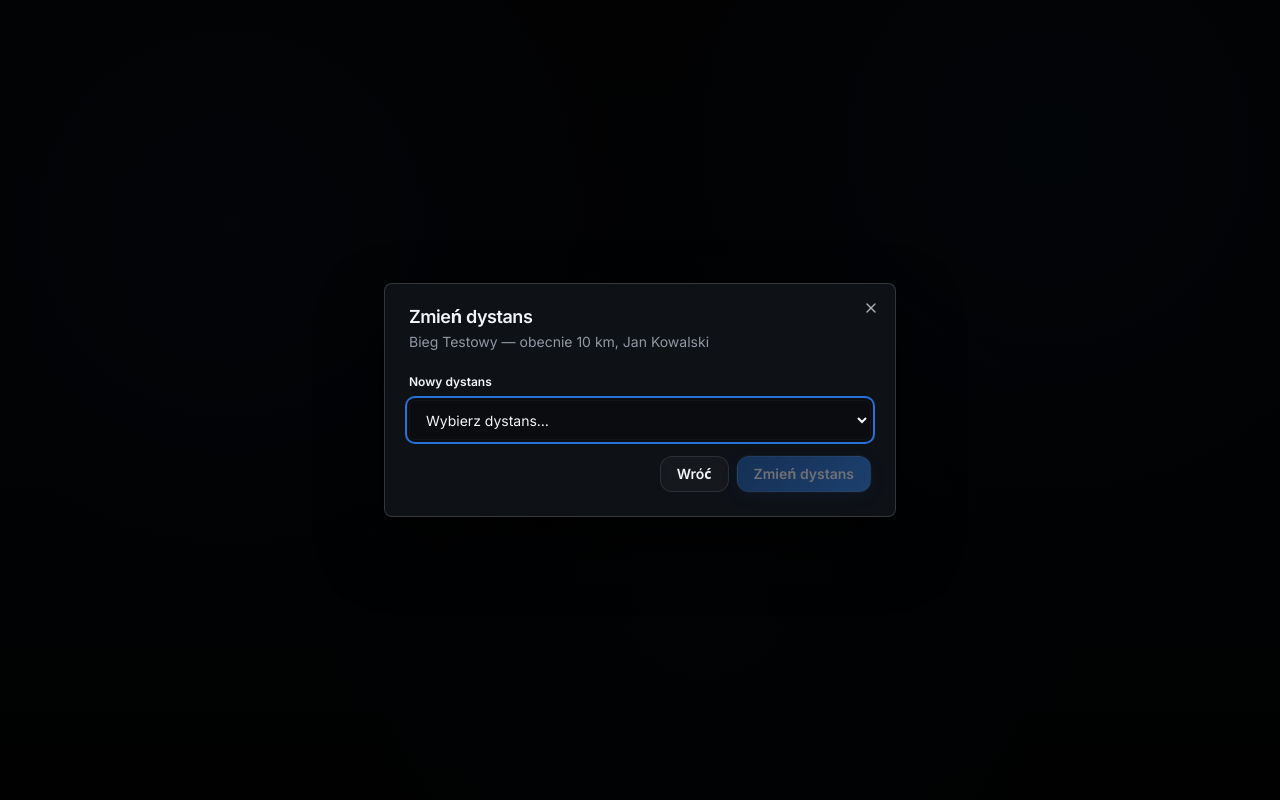
Test: ChangeDistanceDialog › shows the server error when the quote fails
Select "5 km — 50,00 zł" in the dropdown labelled "Nowy dystans" at [640, 420], box [409,400,871,440]
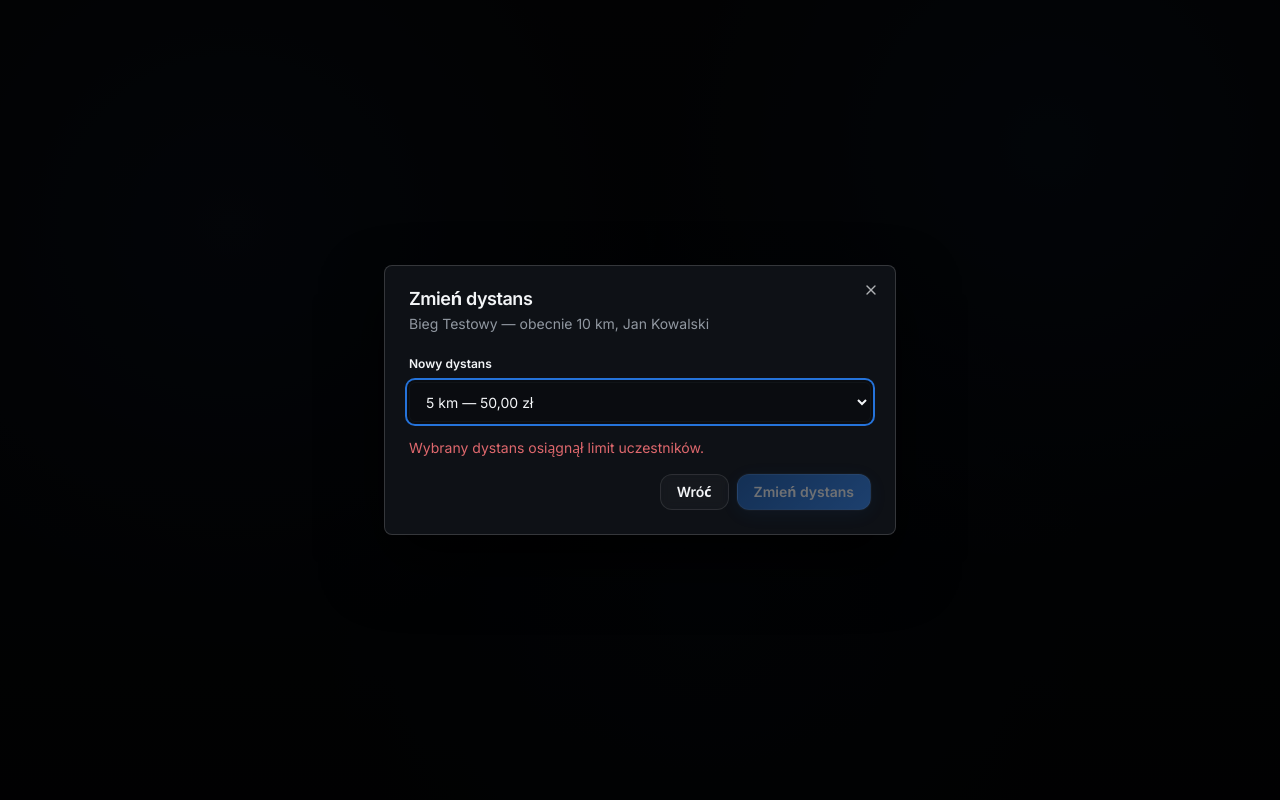
Expected: the button "Zmień dystans" is disabled, [736,474,871,510]
Now the message shows "osiągnął limit uczestników", box [409,439,704,456]
